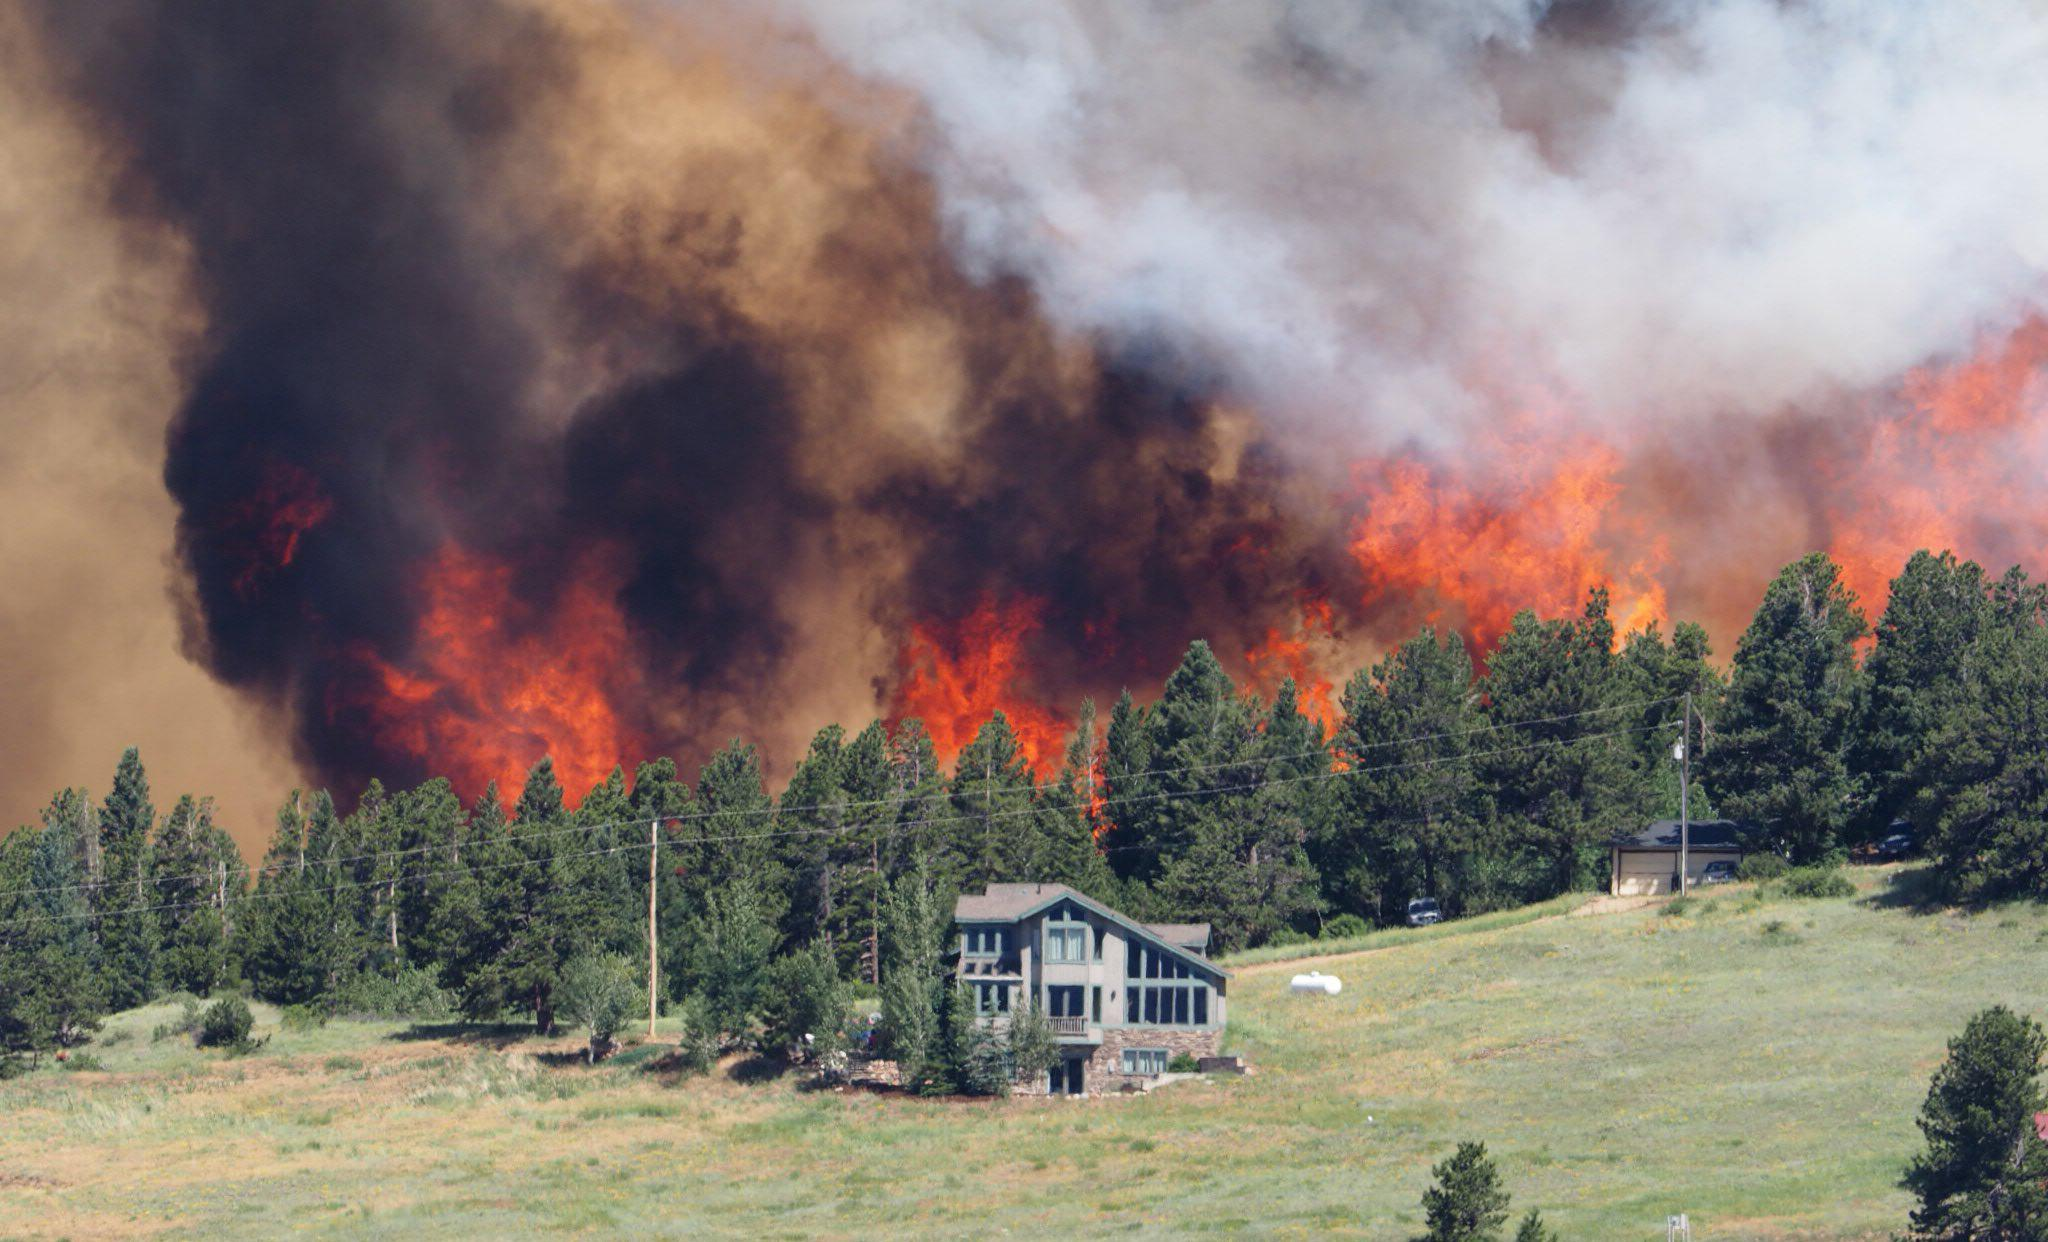fire: (1249, 413, 1697, 712), (347, 546, 655, 827), (1782, 344, 2022, 650), (856, 573, 1121, 813)
